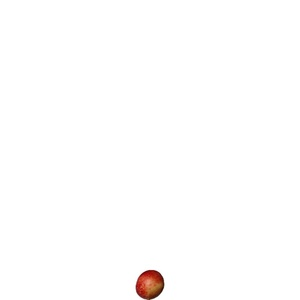nectarina: (137, 272, 165, 300)
